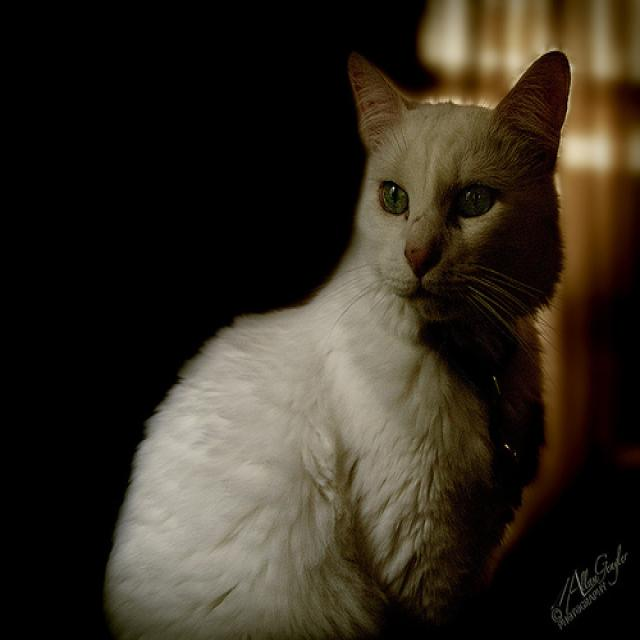cat: (102, 47, 573, 638)
